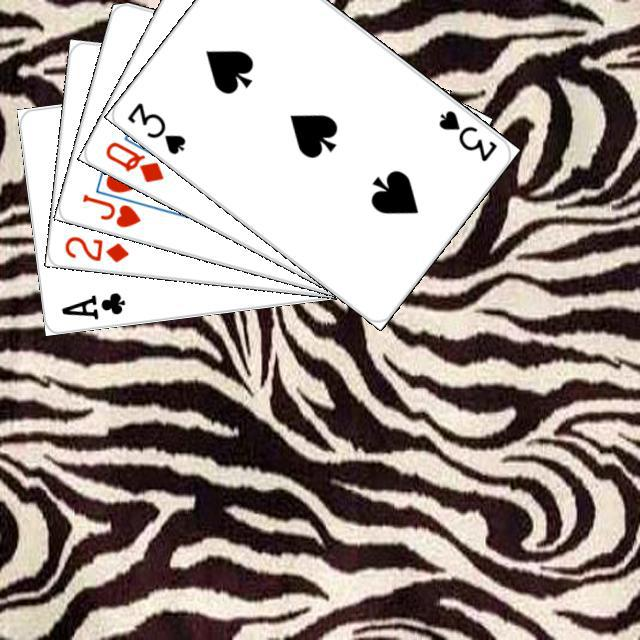2d: (60, 231, 131, 265)
3s: (122, 97, 188, 157), (433, 105, 499, 163)
Ac: (56, 287, 127, 321)
Jh: (77, 189, 143, 230)
Qd: (100, 136, 166, 185)
